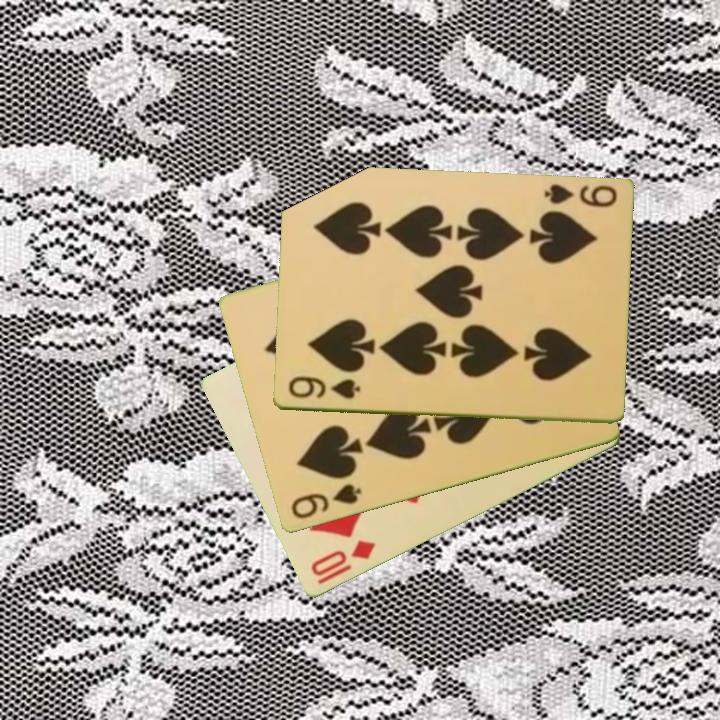10d: (307, 537, 379, 580)
9s: (287, 480, 364, 523), (541, 180, 620, 211), (285, 373, 363, 403)
